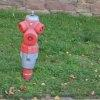a fire hydrant: (20, 15, 44, 82)
